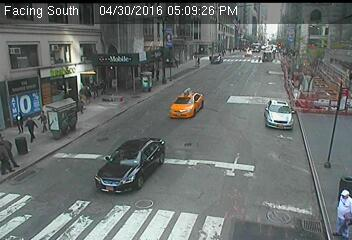neg: (323, 187, 351, 236), (318, 137, 342, 169), (178, 140, 200, 170), (173, 88, 195, 117), (289, 90, 305, 112), (260, 41, 276, 63), (139, 69, 155, 90), (191, 51, 205, 71), (287, 45, 301, 63), (171, 55, 184, 73), (230, 43, 239, 55)
pos: (33, 107, 53, 134), (18, 115, 38, 141), (10, 108, 28, 132), (80, 83, 97, 105)
